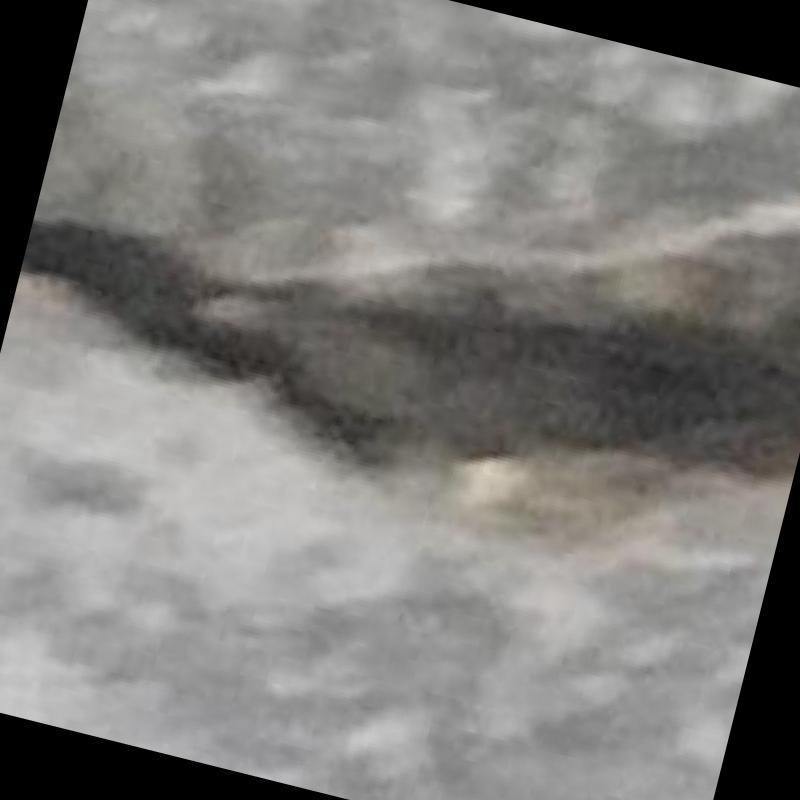pothole: (21, 220, 800, 467)
